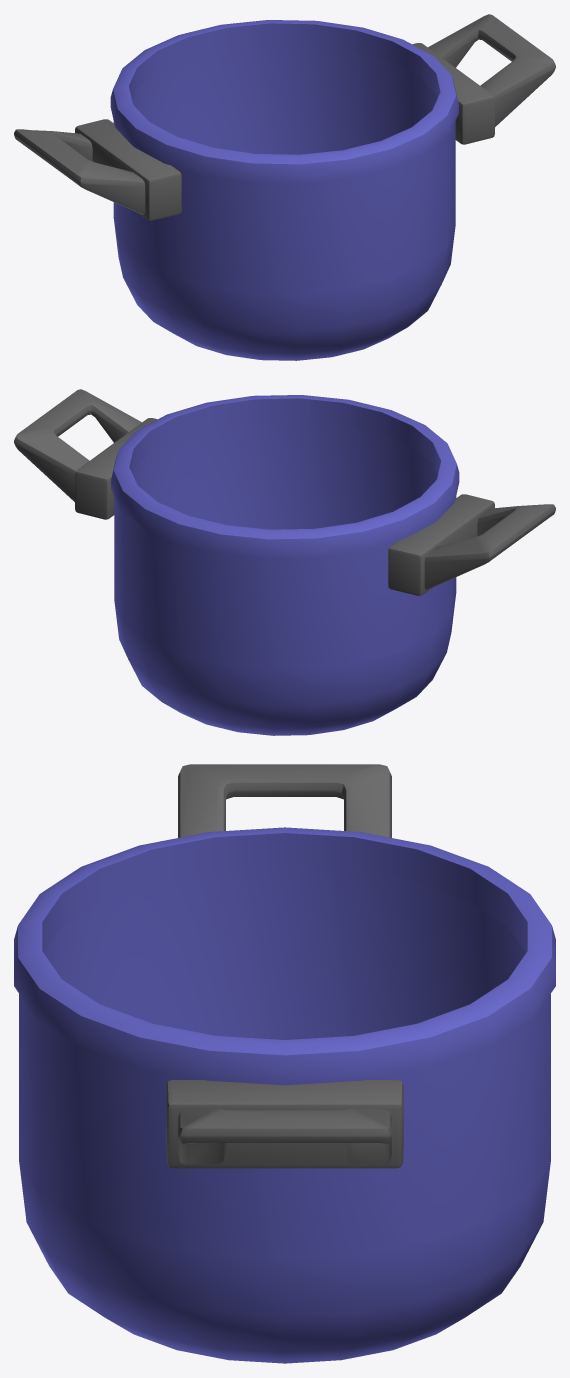
The model's file is SM_pot_02.fbx.
3 renders of one model, top to bottom at view 1: azimuth 30°, elevation 25°; view 2: azimuth 150°, elevation 25°; view 3: azimuth 270°, elevation 25°, orthographic. The views are drawn at different scales.
Parts seen in each view (by area): view 1: Object029; view 2: Object029; view 3: Object029.
Part boxes in pixels (bbox=[...]): Object029: bbox=[14, 14, 555, 360]; Object029: bbox=[14, 389, 555, 735]; Object029: bbox=[14, 764, 555, 1363].
Size of the model in its own units: 26.34 by 11.79 by 16.48.
